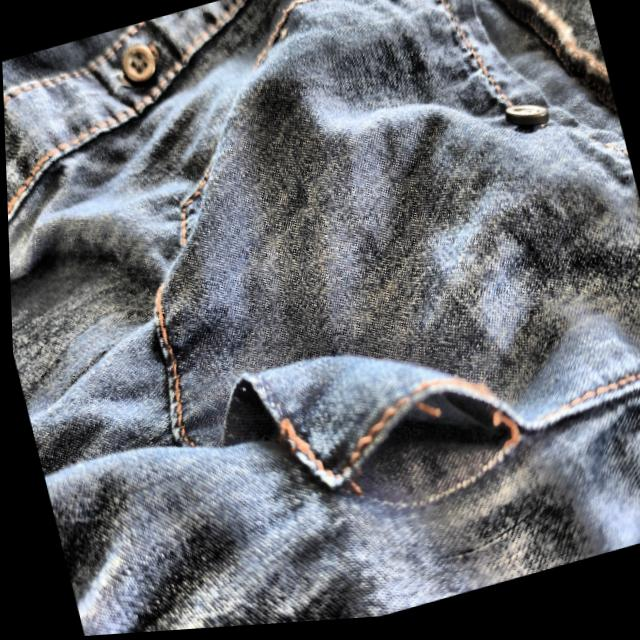seam: (306, 355, 542, 535), (204, 368, 290, 486)
